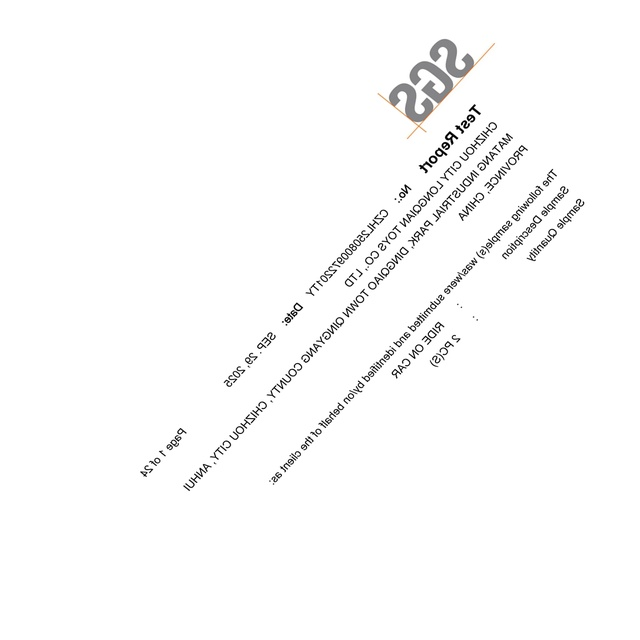sgs: (389, 38, 473, 122)
